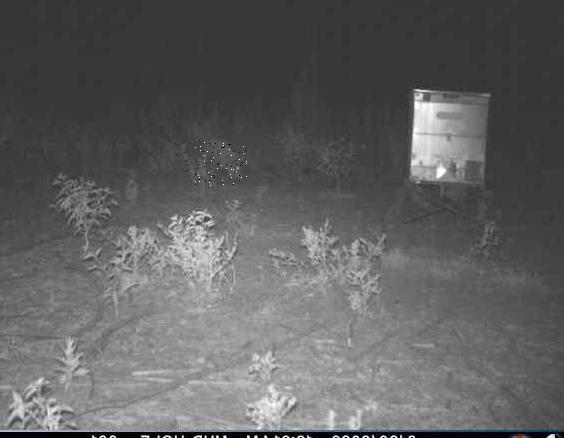Hog: (195, 140, 247, 186)
